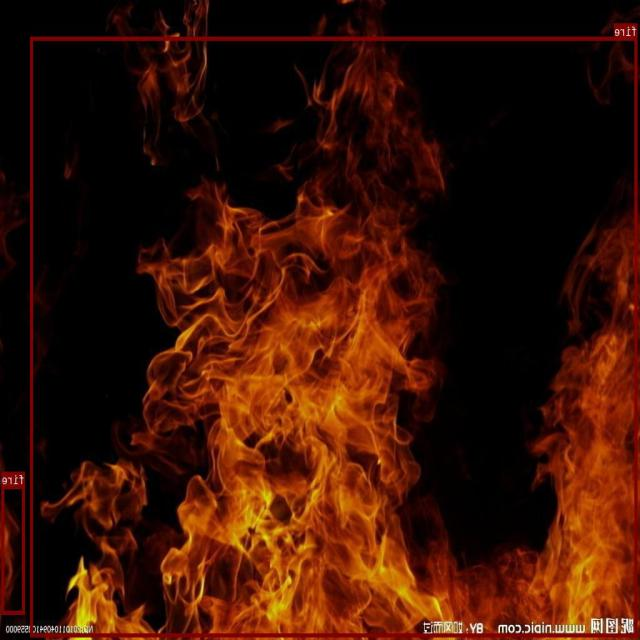fire: (31, 36, 638, 636), (2, 485, 26, 613)
